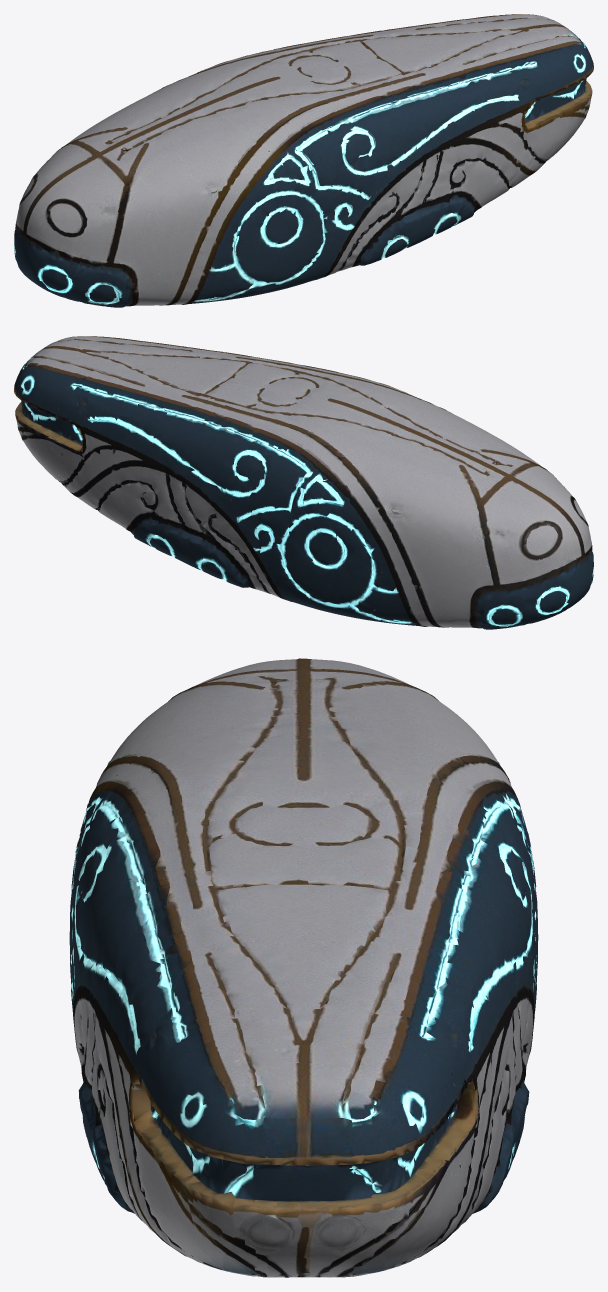
File: starpod_pod_v2.glb
The picture shows the model from 3 angles, top to bottom: view 1: azimuth 30°, elevation 25°; view 2: azimuth 150°, elevation 25°; view 3: azimuth 270°, elevation 25°; orthographic projection. The views are drawn at different scales.
Size of the model in its own units: 1.9 by 0.5812 by 0.6939.
1 material, 1 textured.
